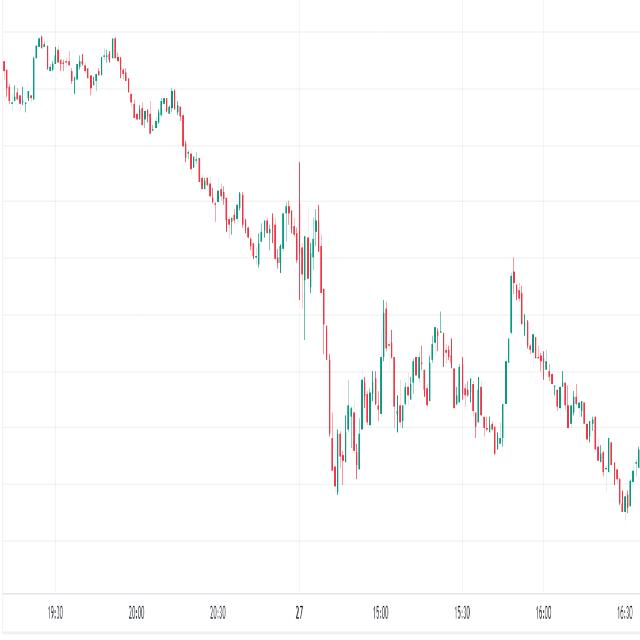Channel-down: (498, 240, 640, 557), (419, 286, 515, 496)
Channel-up: (321, 262, 405, 555)
